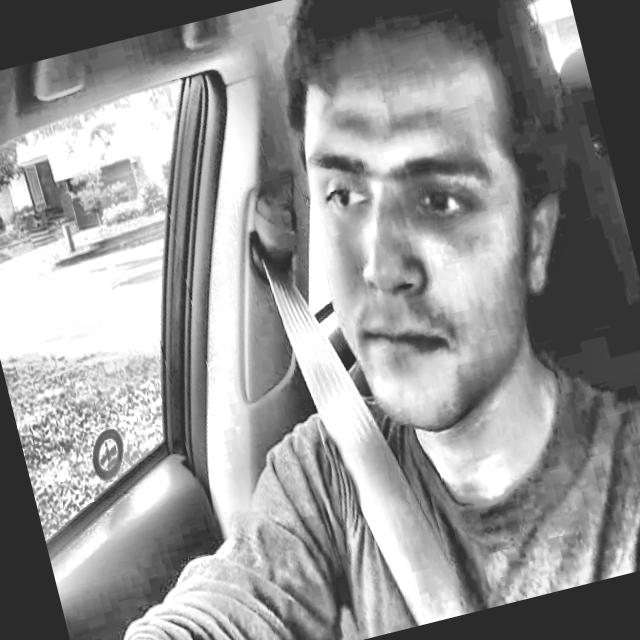closed_mouth: (350, 307, 472, 383)
open_eyes: (402, 178, 479, 230), (307, 177, 378, 225)
